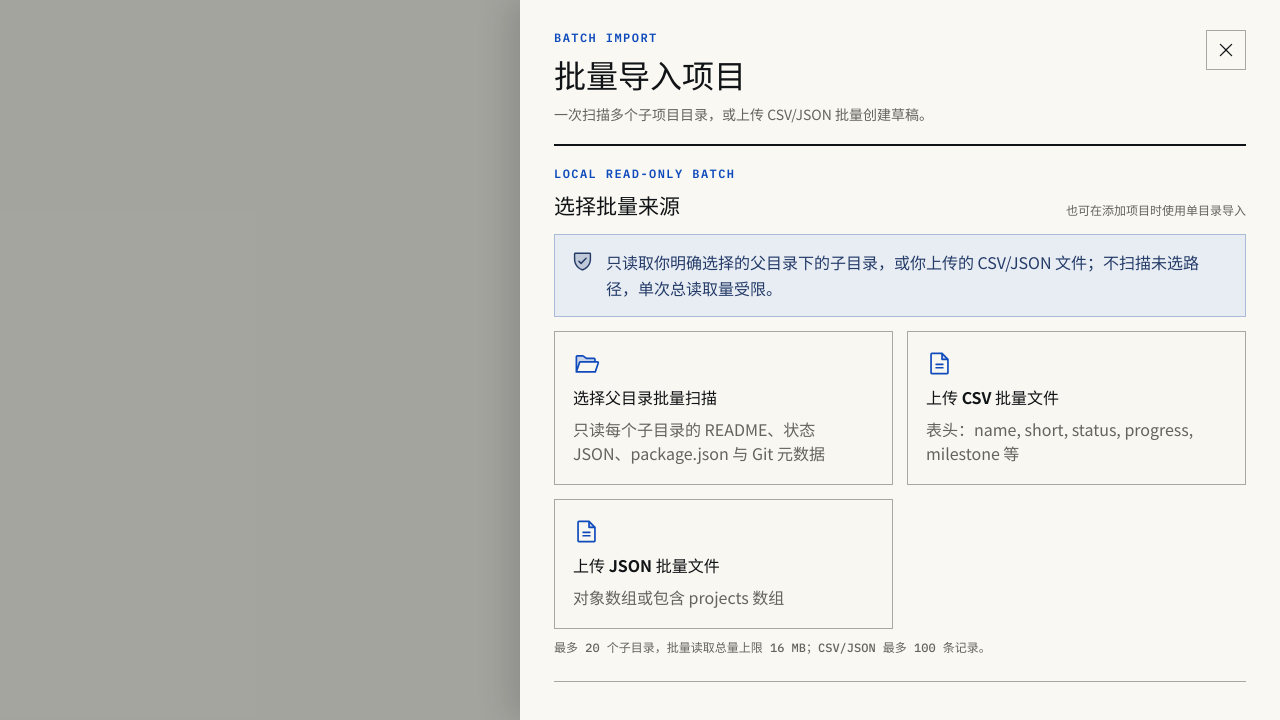
BatchImportPanel › 扫描父目录后进入审查阶段并显示子目录草稿
The width and height of the screenshot is (1280, 720).
Click the button "选择父目录批量扫描 只读每个子目录的 README、状态 JSON、package.json 与 Git 元数据" at (645,397), box [554,331,893,485]
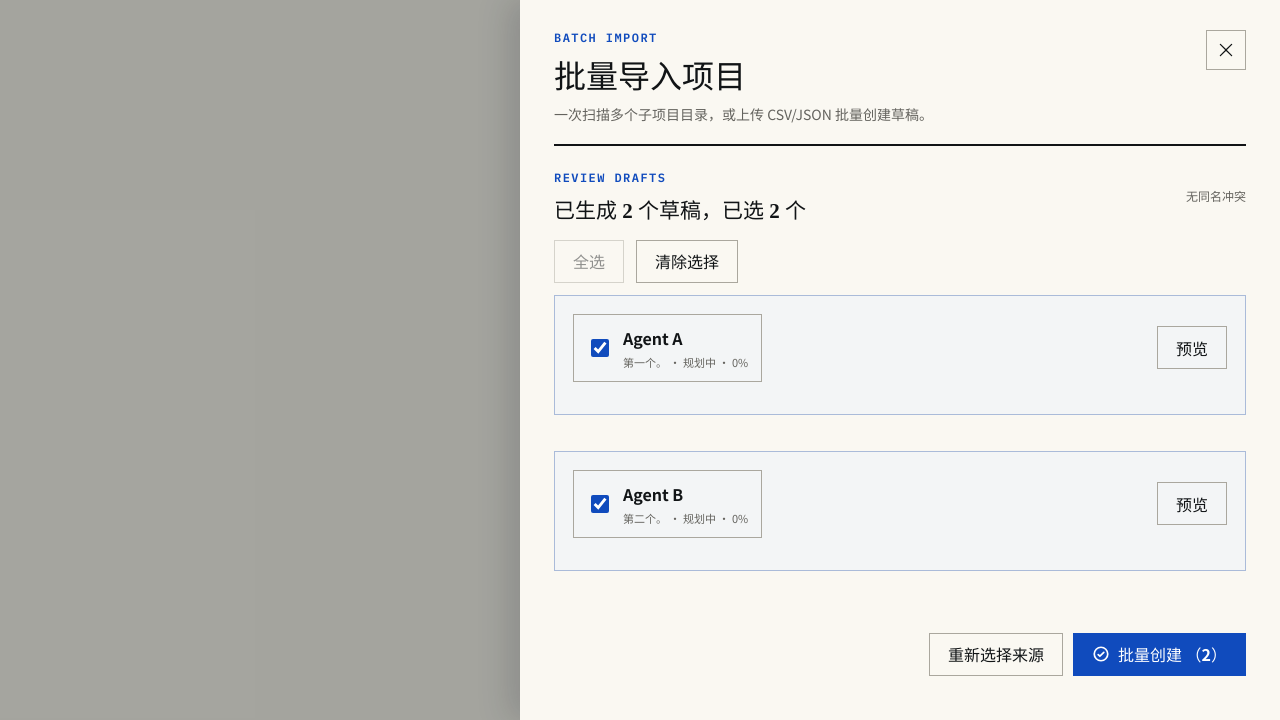
Result: the heading "已生成 2 个草稿，已选 2 个" is shown at [554,198,806,224]
Result: the text "Agent A" is shown at [623,326,683,350]
Result: the text "Agent B" is shown at [623,482,683,506]
